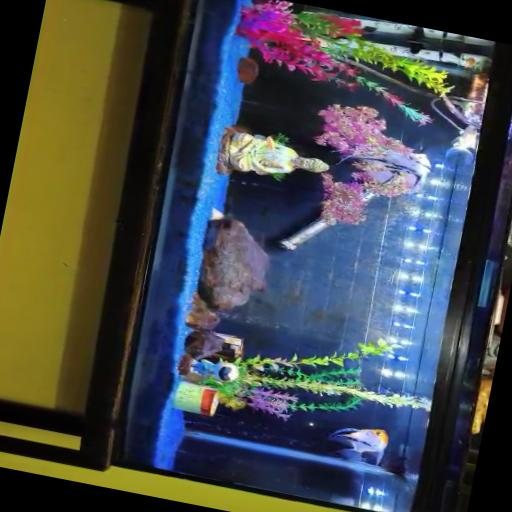Fish: (337, 148, 430, 187), (327, 427, 387, 464), (451, 124, 478, 150), (462, 56, 475, 67)
